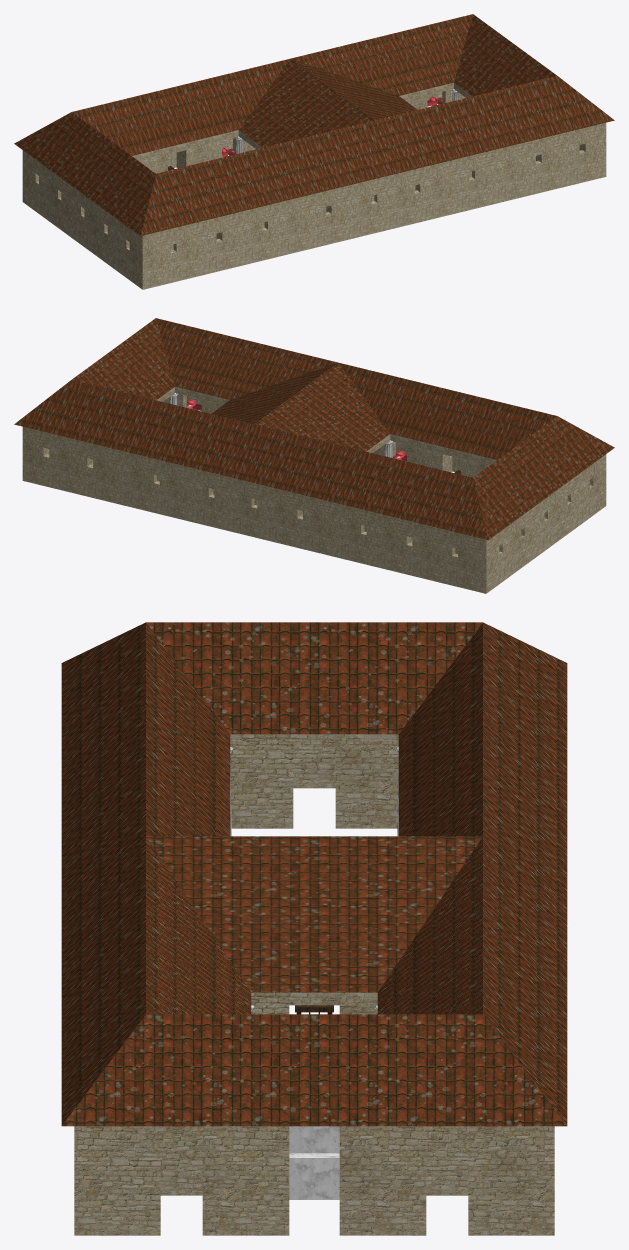
The model's file is villa1 1.fbx.
The picture shows the model from 3 angles, top to bottom: view 1: azimuth 30°, elevation 25°; view 2: azimuth 150°, elevation 25°; view 3: azimuth 270°, elevation 25°; orthographic projection. The views are drawn at different scales.
Visible parts, largest first — view 1: Cube.073_0; view 2: Cube.073_0; view 3: Cube.073_0.
Boxes of the visible parts, left/top/right/bottom form: Cube.073_0: left=14, top=14, right=614, bottom=289; Cube.073_0: left=14, top=318, right=614, bottom=593; Cube.073_0: left=61, top=622, right=567, bottom=1235.
Bounding box in the file's own units: 1300 × 305 × 600.
5 materials, 5 textured.
